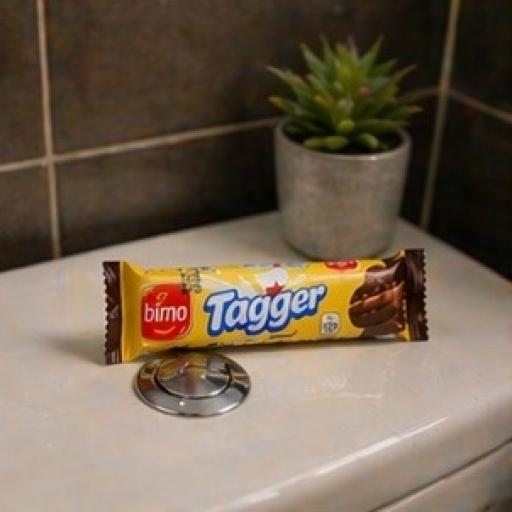tagger: (64, 215, 480, 407)
